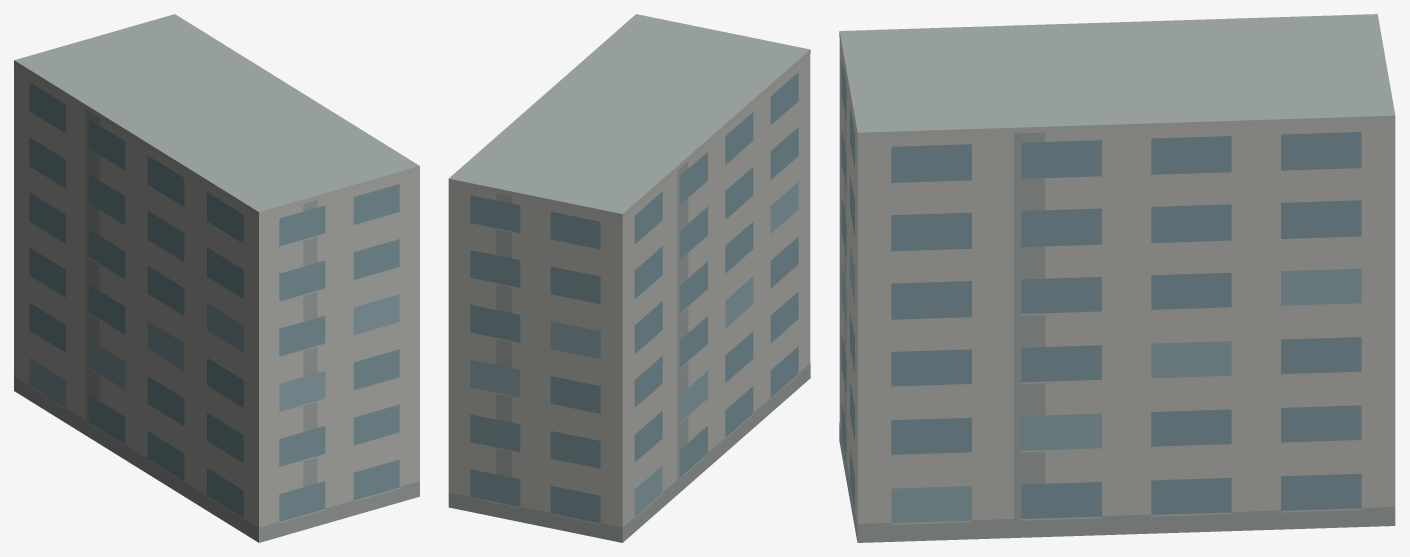
File: survey-upis-32876501.glb
3 renders of one model, left to right at view 1: azimuth 30°, elevation 25°; view 2: azimuth 150°, elevation 25°; view 3: azimuth 270°, elevation 25°, orthographic. The views are drawn at different scales.
Parts seen in each view (by area): view 1: survey-upis-32876501.tmp; view 2: survey-upis-32876501.tmp; view 3: survey-upis-32876501.tmp.
Part boxes in pixels (bbox=[...]): survey-upis-32876501.tmp: bbox=[14, 14, 419, 542]; survey-upis-32876501.tmp: bbox=[448, 14, 810, 542]; survey-upis-32876501.tmp: bbox=[839, 14, 1395, 542].
Bounding box in the file's own units: 10.74 × 17.3 × 21.26.
